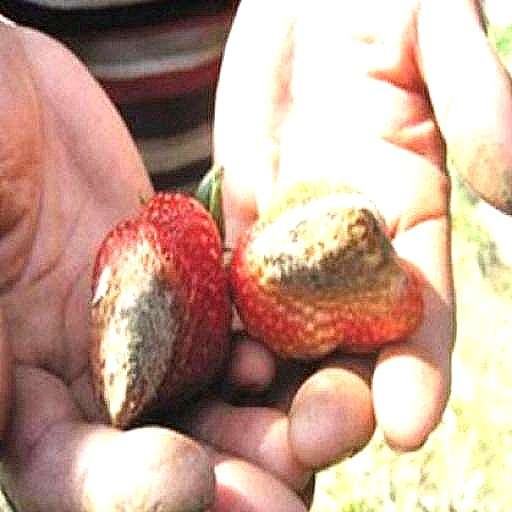Gray Mold: (227, 175, 427, 359), (89, 199, 222, 433)
